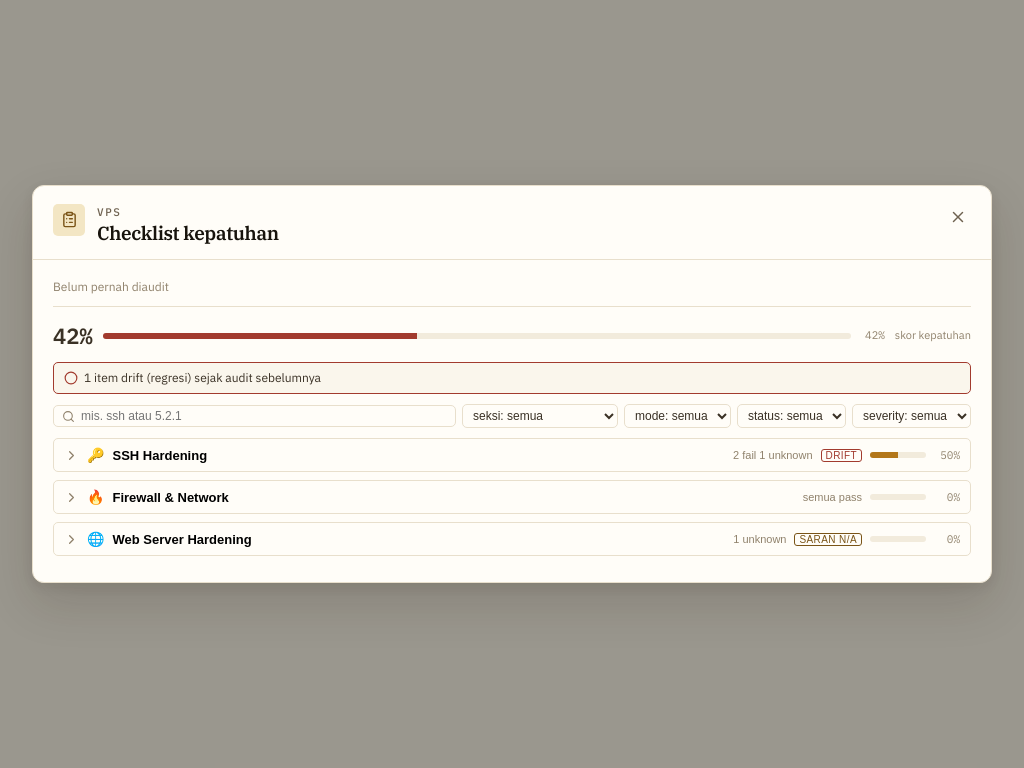
it: VpsChecklistModal (SPEC-220/221 · UI modal) › tombol Attest hanya untuk item INFO (AC-11)
Expected: the text with test id "score-total" is shown, [53,319,93,352]
Click the button with test id "section-ssh".
click(160, 455)  # box [54,439,970,471]
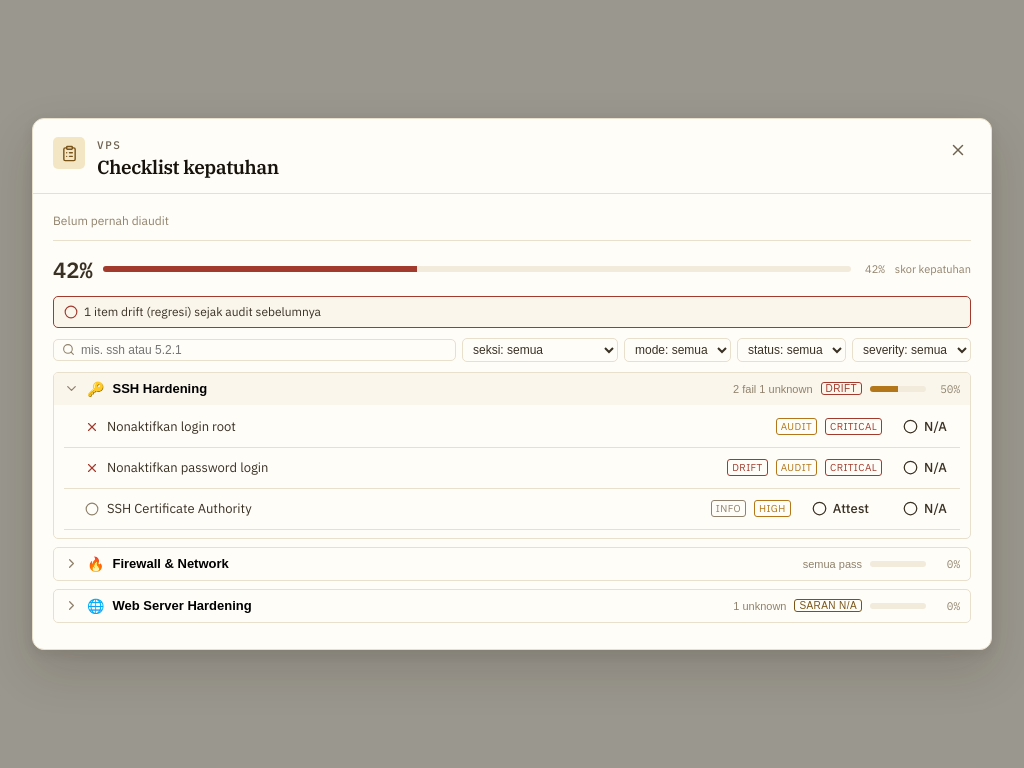
Result: the button "Attest" is shown at [799,494,882,524]
